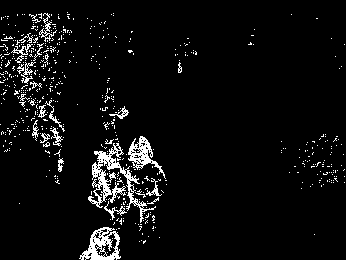person: (126, 136, 167, 235), (88, 139, 129, 227), (32, 103, 66, 184)
